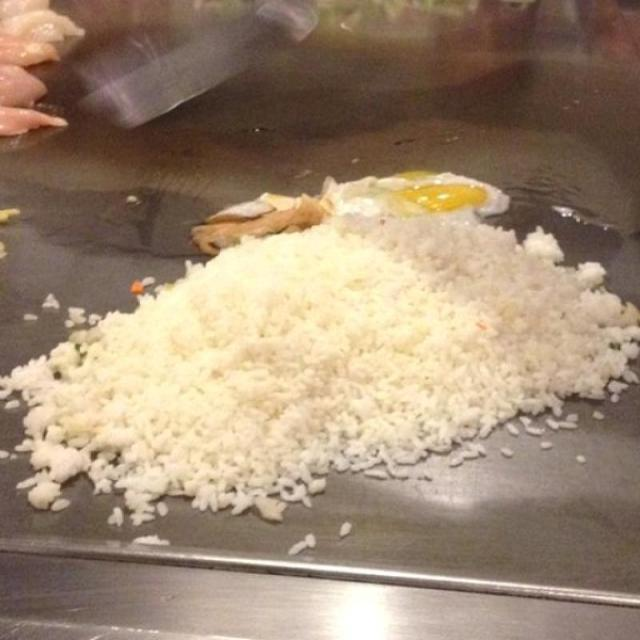rice: (8, 209, 639, 516)
